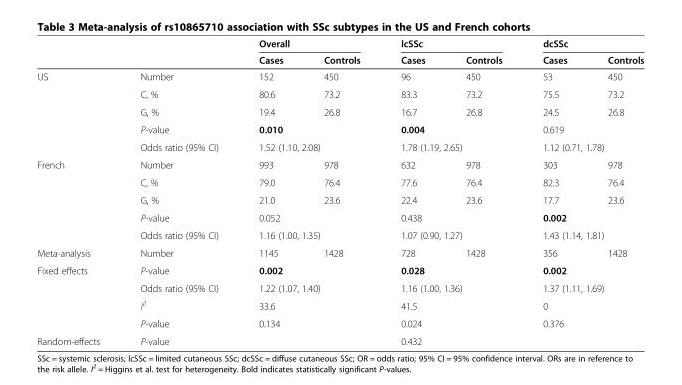table: (36, 37, 643, 346)
table column: (119, 37, 238, 346), (36, 37, 119, 346), (302, 37, 379, 346), (444, 37, 521, 346), (379, 37, 444, 346), (521, 37, 586, 346), (238, 37, 302, 346), (586, 37, 643, 346)
table column header: (36, 37, 643, 67)
table row: (36, 295, 643, 314), (36, 67, 643, 85), (36, 102, 643, 120), (36, 120, 643, 138), (36, 155, 643, 173), (36, 190, 643, 208), (36, 208, 643, 226), (36, 243, 643, 261), (36, 261, 643, 279), (36, 314, 643, 332), (36, 85, 643, 102), (36, 138, 643, 155), (36, 173, 643, 190), (36, 226, 643, 243), (36, 51, 643, 67), (36, 279, 643, 295), (36, 37, 643, 51), (36, 332, 643, 346)
table spanning cell: (36, 67, 119, 155), (36, 155, 119, 243), (36, 261, 119, 332), (379, 295, 521, 314), (238, 295, 379, 314), (379, 120, 521, 138), (379, 208, 521, 226), (379, 261, 521, 279), (379, 314, 521, 332), (238, 120, 379, 138), (238, 208, 379, 226), (238, 261, 379, 279), (238, 314, 379, 332), (379, 138, 521, 155), (379, 226, 521, 243), (238, 138, 379, 155), (238, 226, 379, 243), (521, 295, 643, 314), (379, 279, 521, 295), (238, 279, 379, 295), (521, 120, 643, 138), (521, 208, 643, 226), (521, 261, 643, 279), (521, 314, 643, 332), (521, 138, 643, 155), (521, 226, 643, 243), (379, 37, 521, 51), (379, 332, 521, 346), (238, 37, 379, 51), (521, 279, 643, 295), (521, 37, 643, 51)
